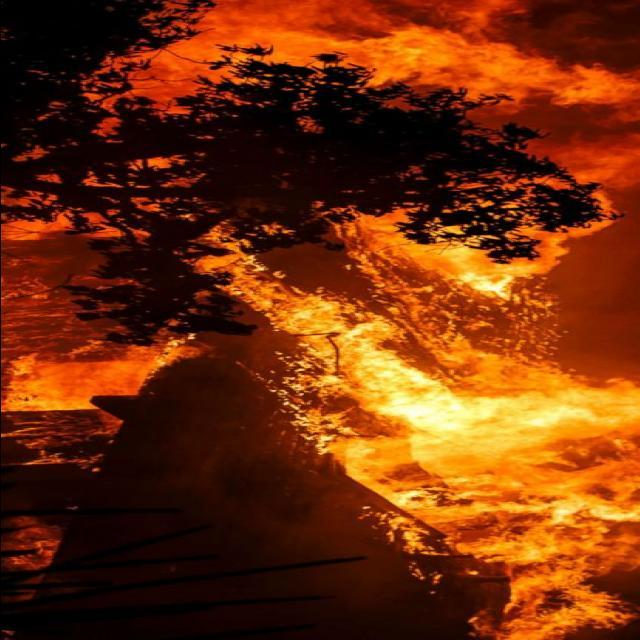Fire: (0, 9, 626, 640)
